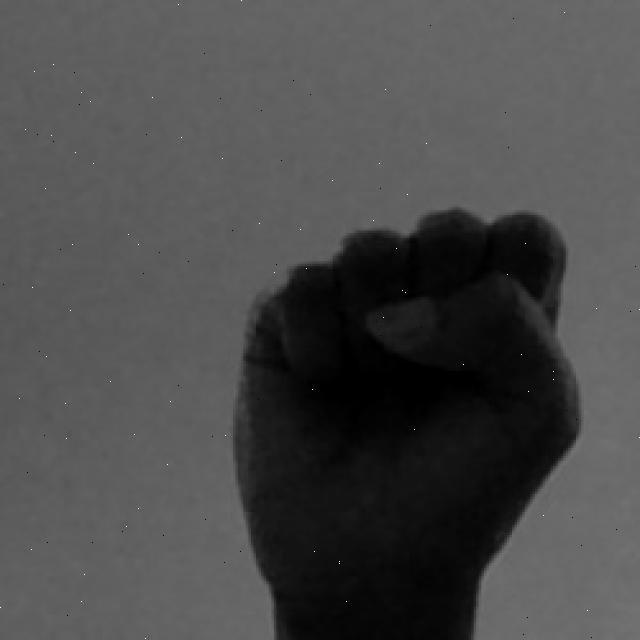S: (228, 202, 584, 640)
